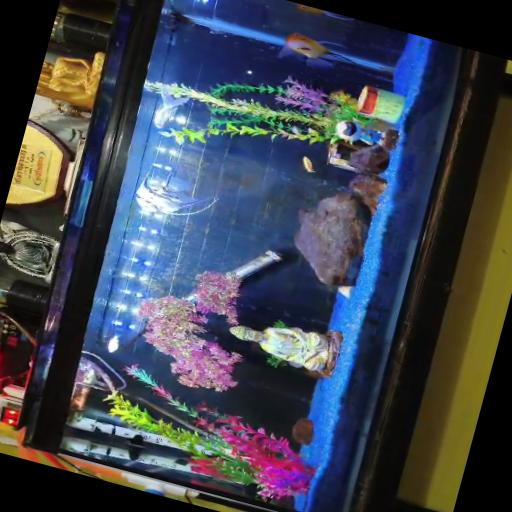Fish: (136, 175, 218, 216), (278, 33, 356, 68), (154, 88, 192, 128), (297, 4, 355, 21), (303, 157, 315, 173), (338, 286, 352, 298)
